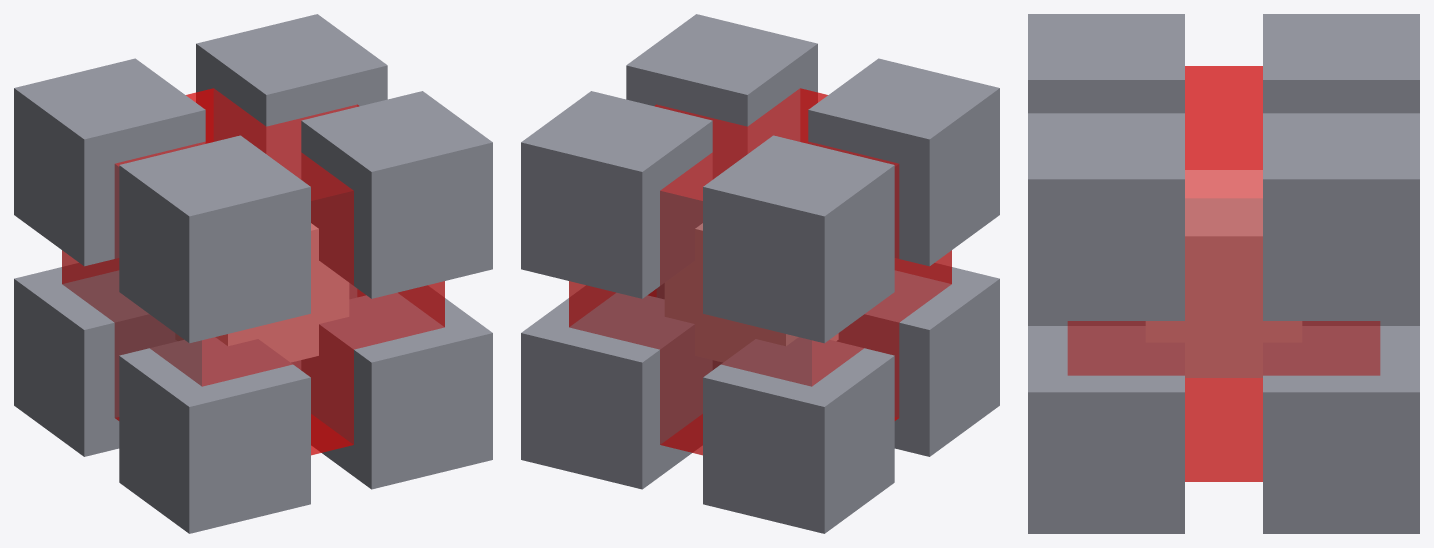
The model's file is egg_mecha_dinosaur.obj.
3 views of the same model, side by side, from view 1: azimuth 30°, elevation 25°; view 2: azimuth 150°, elevation 25°; view 3: azimuth 270°, elevation 25° (orthographic). The views are drawn at different scales.
Visible parts, largest first — view 1: egg_mecha_dinosaur; view 2: egg_mecha_dinosaur; view 3: egg_mecha_dinosaur.
Boxes of the visible parts, x1,y1,x2,y2 form: egg_mecha_dinosaur: [14, 14, 492, 533]; egg_mecha_dinosaur: [521, 14, 999, 533]; egg_mecha_dinosaur: [1028, 14, 1419, 533].
Size of the model in its own units: 7.43 by 7.43 by 7.44.
